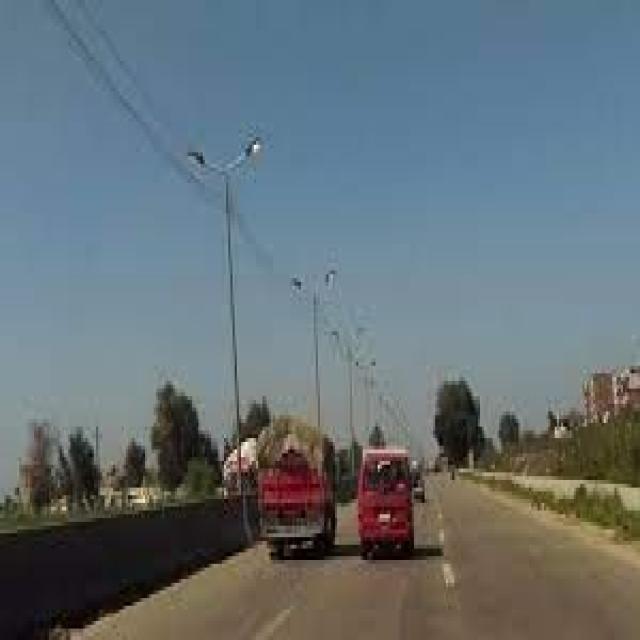Street Light: (188, 137, 260, 545), (288, 267, 335, 476)
